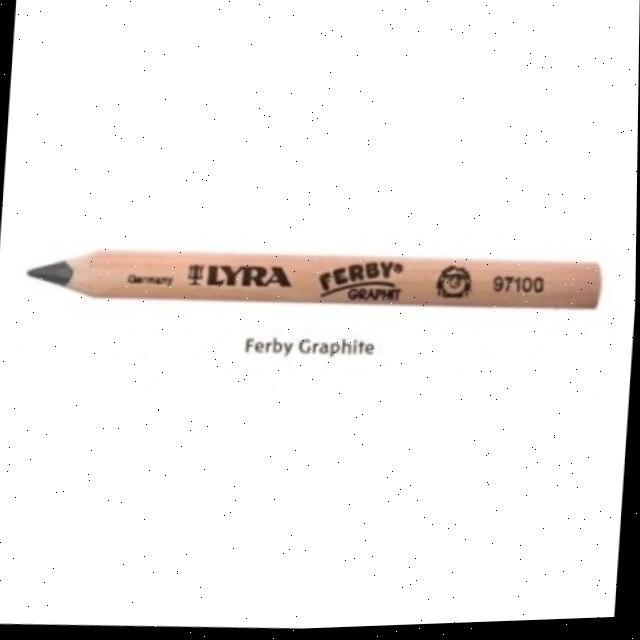pencil: (11, 223, 612, 345)
